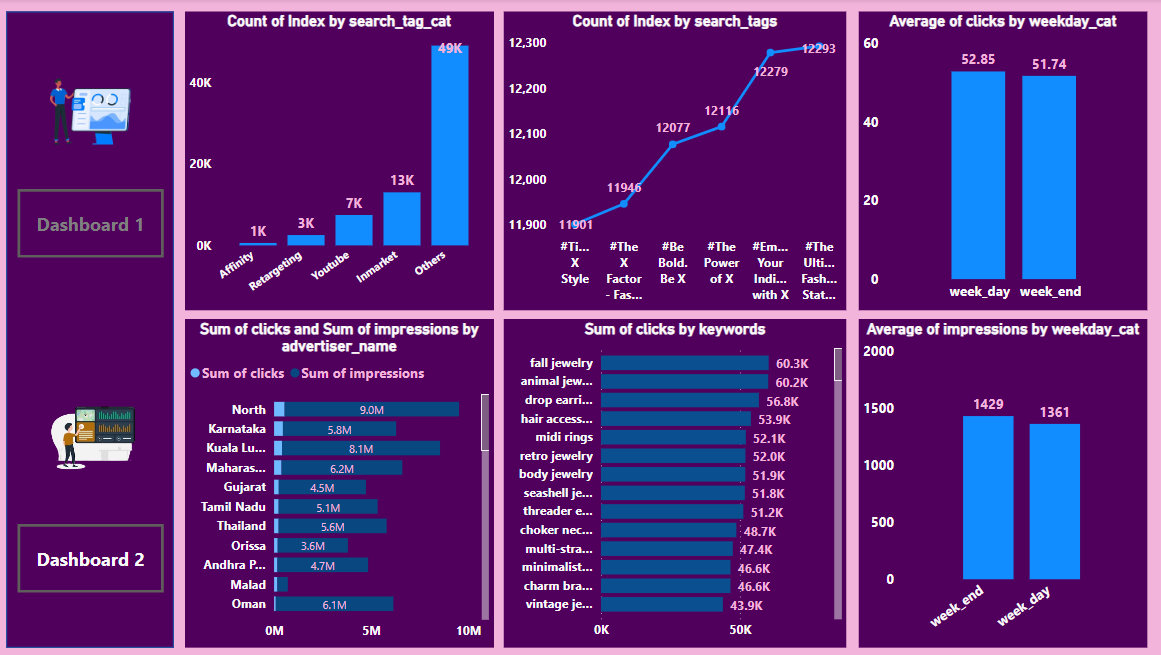

The page's visual inventory and layout, read from the dashboard file:
{"tool":"powerbi","page":{"name":"Page 2","canvas":[1280,720],"ordinal":1},"visuals":[{"type":"lineChart","fields":{"Category":["Marketing campaign dataset.search_tags"],"Y":["CountNonNull(Marketing campaign dataset.Index)"]},"box":[558.5,13.7,376,328],"z":0},{"type":"columnChart","fields":{"Category":["Marketing campaign dataset.search_tag_cat"],"Y":["CountNonNull(Marketing campaign dataset.Index)"]},"box":[208.6,13.7,338.9,328],"z":1000},{"type":"barChart","fields":{"Category":["Marketing campaign dataset.advertiser_name"],"Y":["Sum(Marketing campaign dataset.clicks)","Sum(Marketing campaign dataset.impressions)"]},"box":[208.6,351.3,338.9,360.9],"z":2000},{"type":"barChart","fields":{"Category":["Marketing campaign dataset.keywords"],"Y":["Sum(Marketing campaign dataset.clicks)"]},"box":[558.5,351.3,376,360.9],"z":3000},{"type":"columnChart","fields":{"Category":["Marketing campaign dataset.weekday_cat"],"Y":["Avg(Marketing campaign dataset.clicks)"]},"box":[948.2,13.7,317,328],"z":4000},{"type":"columnChart","fields":{"Category":["Marketing campaign dataset.weekday_cat"],"Y":["Avg(Marketing campaign dataset.impressions)"]},"box":[948.2,351.3,317,360.9],"z":5000},{"type":"shape","box":[12.3,13.7,183.9,698.5],"z":6000},{"type":"image","box":[22,60.7,163.3,123.5],"z":7000},{"type":"image","box":[24.7,420.3,163.3,122.1],"z":8000},{"type":"actionButton","box":[24.7,208.9,160.5,75.5],"z":9000},{"type":"actionButton","box":[24.7,576.7,160.5,75.5],"z":10000}]}

Visuals, with their boxes in screenshot pixels (x1, y1, x2, y2), scaled from the page's 1280x720 canvas onto the 1161x655 screenshot:
lineChart - Marketing campaign dataset.search_tags x CountNonNull(Marketing campaign dataset.Index): (507,12,848,311)
columnChart - Marketing campaign dataset.search_tag_cat x CountNonNull(Marketing campaign dataset.Index): (189,12,497,311)
barChart - Marketing campaign dataset.advertiser_name x Sum(Marketing campaign dataset.clicks): (189,320,497,648)
barChart - Marketing campaign dataset.keywords x Sum(Marketing campaign dataset.clicks): (507,320,848,648)
columnChart - Marketing campaign dataset.weekday_cat x Avg(Marketing campaign dataset.clicks): (860,12,1148,311)
columnChart - Marketing campaign dataset.weekday_cat x Avg(Marketing campaign dataset.impressions): (860,320,1148,648)
shape: (11,12,178,648)
image: (20,55,168,168)
image: (22,382,171,493)
actionButton: (22,190,168,259)
actionButton: (22,525,168,593)
